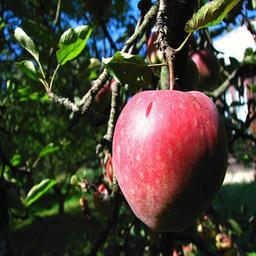apple: (111, 89, 228, 230)
